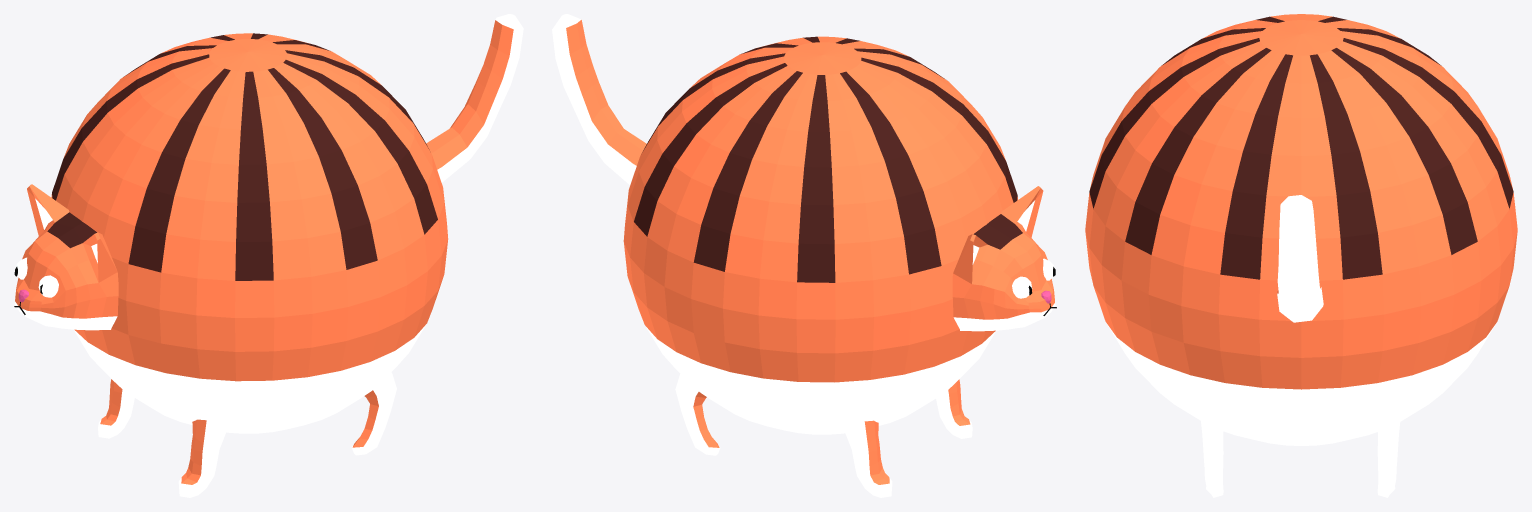
Rendered from cat.glb.
3 views of the same model, side by side, from view 1: azimuth 30°, elevation 25°; view 2: azimuth 150°, elevation 25°; view 3: azimuth 270°, elevation 25° (orthographic). The views are drawn at different scales.
Visible parts, largest first — view 1: body, head, tail, frontLegs, backLegs; view 2: body, head, tail, frontLegs, backLegs; view 3: body, tail, backLegs.
Boxes of the visible parts, x1,y1,x2,y2 form: body: (51,33,448,433); head: (14,184,118,330); tail: (426,14,523,182); frontLegs: (98,379,227,497); backLegs: (351,372,396,455); body: (623,36,1017,434); head: (952,186,1055,331); tail: (552,14,646,184); frontLegs: (844,379,972,497); backLegs: (675,374,720,455); body: (1085,14,1517,445); tail: (1277,195,1323,322); backLegs: (1200,418,1400,497).
Bounding box in the file's own units: 171 × 127 × 118.
